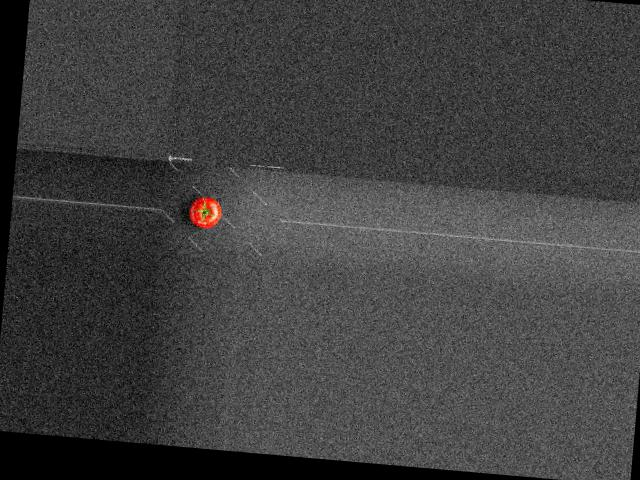tomato: (188, 195, 223, 229)
